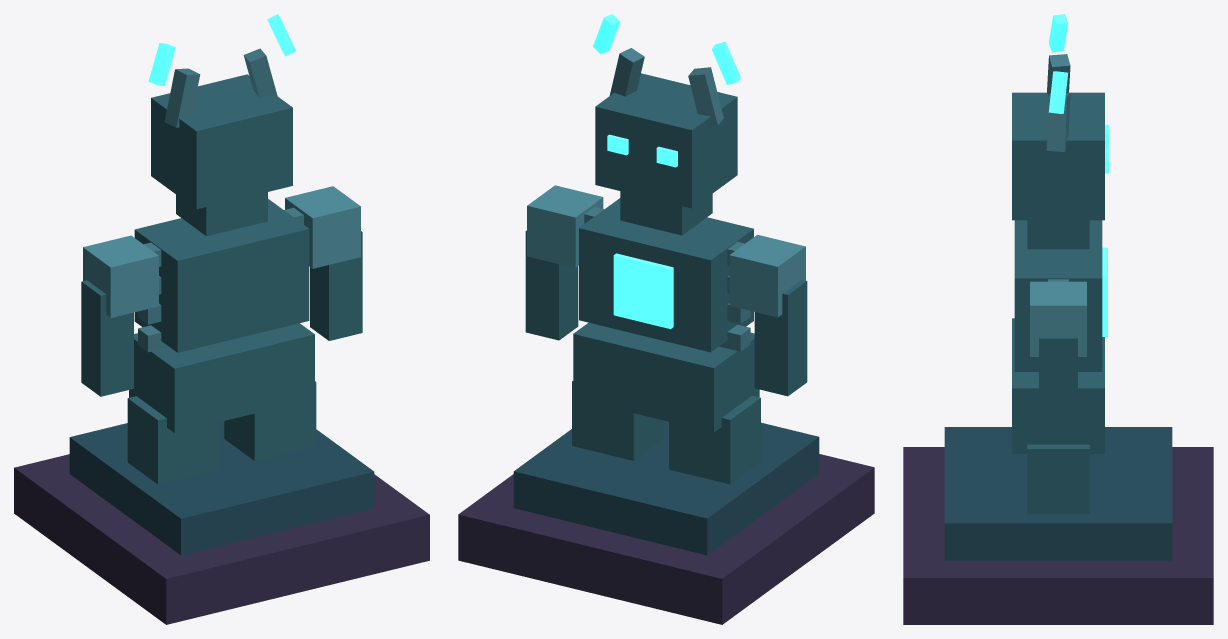
Rendered from warden_tower.glb.
3 views of the same model, side by side, from view 1: azimuth 30°, elevation 25°; view 2: azimuth 150°, elevation 25°; view 3: azimuth 270°, elevation 25° (orthographic).
Visible parts, largest first — view 1: base_slab, base_step, torso_hi, head, torso_lo, foot_L, arm_L, shoulder_L, shoulder_R, foot_R, arm_R, neck (+4 smaller); view 2: base_slab, base_step, torso_hi, head, torso_lo, foot_L, arm_L, shoulder_L, shoulder_R, foot_R, arm_R, soul_chest (+6 smaller); view 3: base_slab, base_step, head, torso_hi, torso_lo, foot_R, arm_R, shoulder_R, neck, horn_R1, horn_R2, horn_L2 (+2 smaller).
Boxes of the visible parts, x1,y1,x2,y2 form: base_slab: (14,454,429,624); base_step: (69,421,374,555); torso_hi: (134,199,309,352); head: (151,74,292,209); torso_lo: (129,323,314,432); foot_L: (127,396,219,484); arm_L: (81,280,133,396); shoulder_L: (83,235,158,317); shoulder_R: (285,186,360,268); foot_R: (224,381,316,460); arm_R: (310,231,362,340); neck: (176,192,267,236); base_slab: (458,454,874,624); base_step: (513,420,819,555); torso_hi: (579,198,753,352); head: (595,73,737,208); torso_lo: (573,322,759,432); foot_L: (669,395,760,484); arm_L: (754,279,807,396); shoulder_L: (729,234,805,317); shoulder_R: (527,185,603,267); foot_R: (572,381,663,460); arm_R: (525,230,578,340); soul_chest: (613,253,673,328); base_slab: (903,447,1213,624); base_step: (944,427,1172,560); head: (1012,92,1104,220); torso_hi: (1014,220,1102,371); torso_lo: (1012,318,1104,453); foot_R: (1027,444,1089,514); arm_R: (1039,336,1077,441); shoulder_R: (1030,281,1086,356); neck: (1027,220,1089,249); horn_R1: (1046,92,1070,151); horn_R2: (1048,71,1068,113); horn_L2: (1048,14,1068,52).
Bounding box in the file's own units: 3 × 5.51 × 3.
